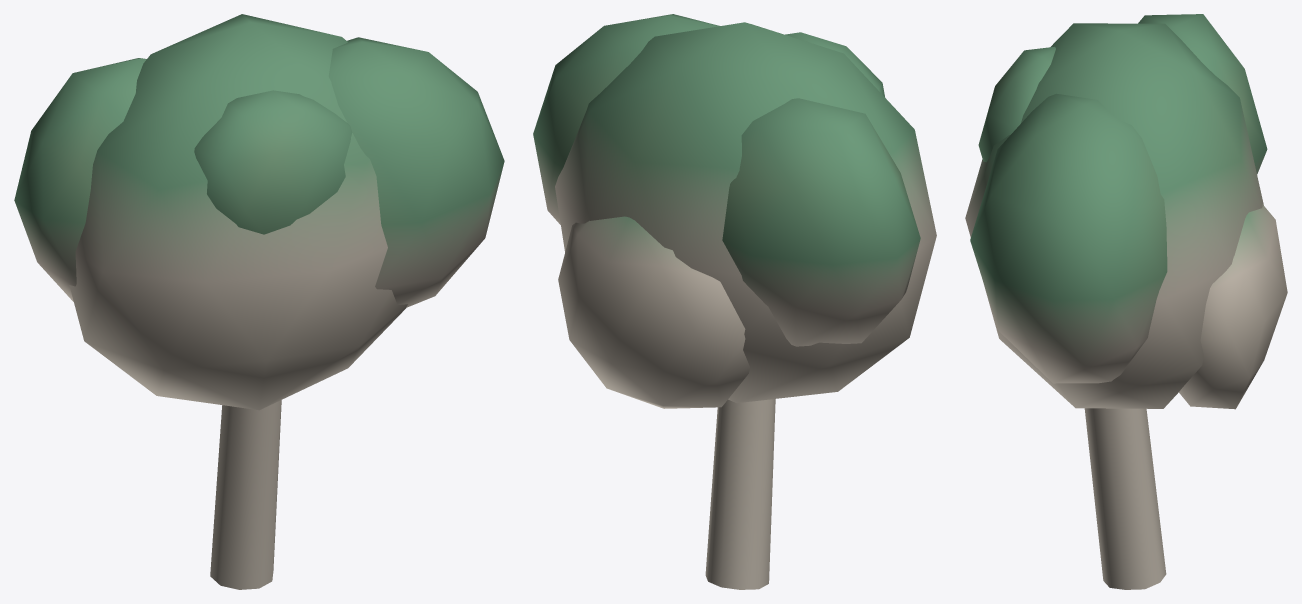
Rendered from flora_olive_01_mesh_2000.glb.
3 views of the same model, side by side, from view 1: azimuth 30°, elevation 25°; view 2: azimuth 150°, elevation 25°; view 3: azimuth 270°, elevation 25° (orthographic).
Parts seen in each view (by area): view 1: flora_olive; view 2: flora_olive; view 3: flora_olive.
Boxes of the visible parts, x1,y1,x2,y2 form: flora_olive: [14, 14, 504, 589]; flora_olive: [533, 14, 936, 589]; flora_olive: [965, 14, 1287, 589].
Size of the model in its own units: 2.43 by 3.13 by 1.66.
